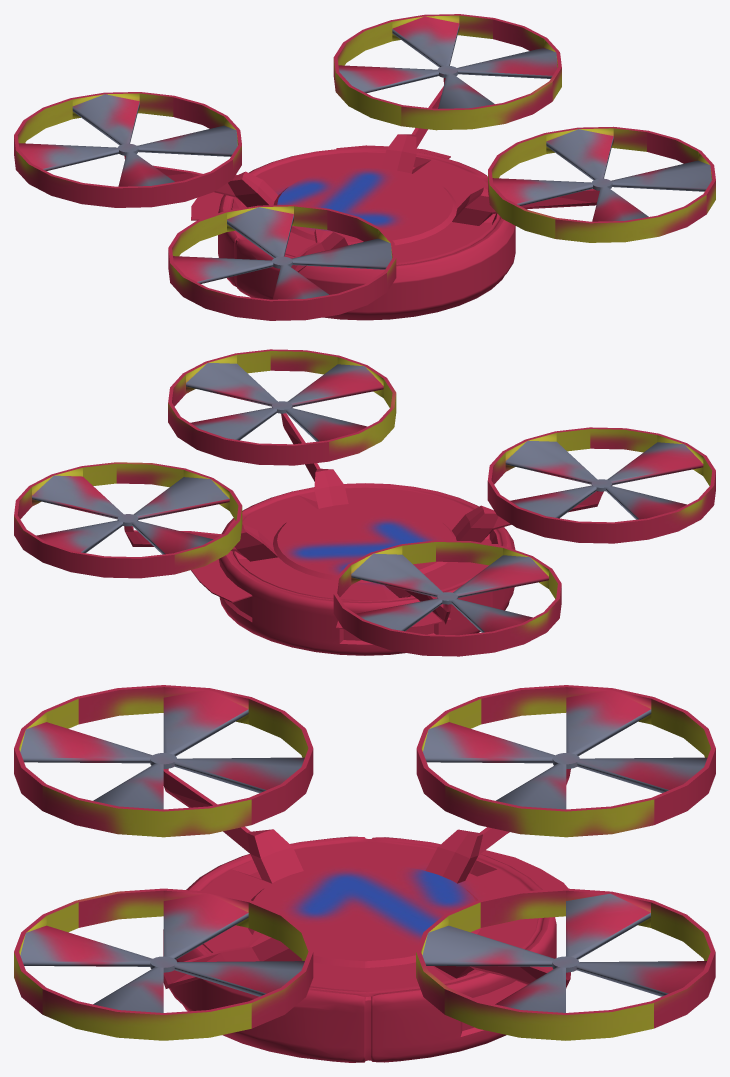
The model's file is Tire.FBX.
3 views of the same model, one above another, from view 1: azimuth 30°, elevation 25°; view 2: azimuth 150°, elevation 25°; view 3: azimuth 270°, elevation 25° (orthographic). The views are drawn at different scales.
Visible parts, largest first — view 1: Cylinder002; view 2: Cylinder002; view 3: Cylinder002.
Part boxes in pixels (<box>): Cylinder002: <box>14,14,715,320</box>; Cylinder002: <box>14,349,715,656</box>; Cylinder002: <box>14,685,715,1062</box>.
Size of the model in its own units: 100 by 19.94 by 90.01.
1 material, 1 textured.
